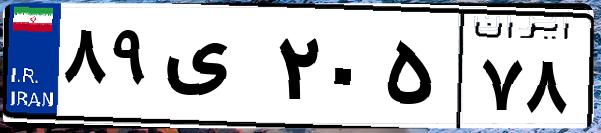0: (330, 28, 385, 110)
2: (270, 28, 330, 110)
5: (385, 28, 445, 110)
7: (475, 38, 525, 113)
8: (57, 26, 110, 100), (525, 38, 570, 115)
9: (110, 28, 158, 98)
ی: (158, 20, 270, 120)
